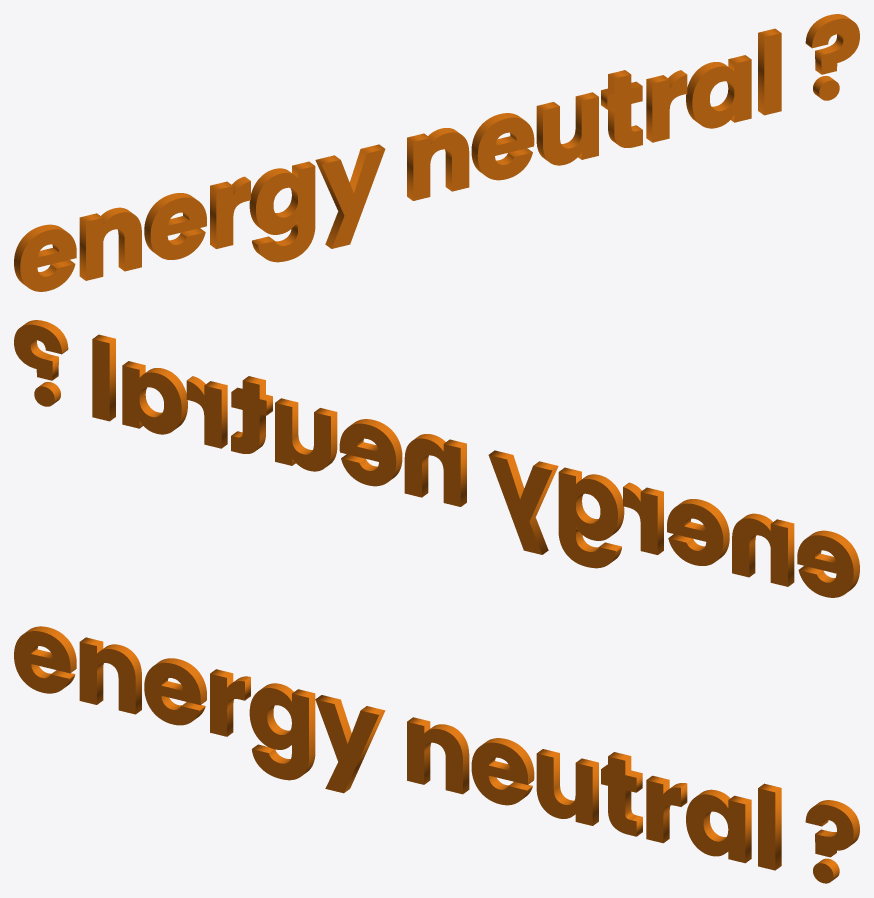
The model's file is Soru1.5.gltf.
The picture shows the model from 3 angles, top to bottom: view 1: azimuth 30°, elevation 25°; view 2: azimuth 150°, elevation 25°; view 3: azimuth 330°, elevation 25°; orthographic projection.
Parts seen in each view (by area): view 1: 3.2, 3.1; view 2: 3.2, 3.1; view 3: 3.2, 3.1.
Boxes of the visible parts, x1,y1,x2,y2 form: 3.2: (407, 14, 859, 200); 3.1: (14, 144, 385, 291); 3.2: (14, 320, 466, 506); 3.1: (488, 450, 859, 597); 3.2: (407, 717, 859, 883); 3.1: (14, 626, 385, 793).
Bounding box in the file's own units: 0.3361 × 0.0411 × 0.00435.
